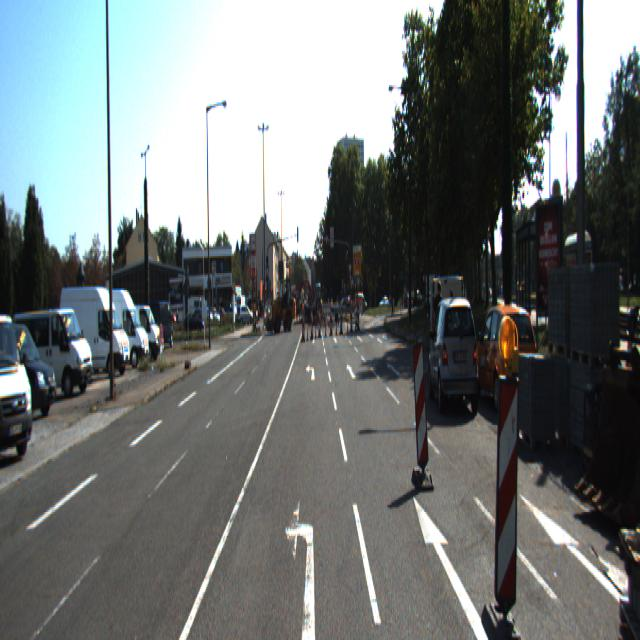Car: (13, 308, 95, 400), (57, 280, 131, 377), (472, 302, 539, 406), (426, 295, 480, 415), (0, 322, 60, 426), (0, 311, 36, 472), (84, 284, 148, 370), (265, 276, 296, 334)
